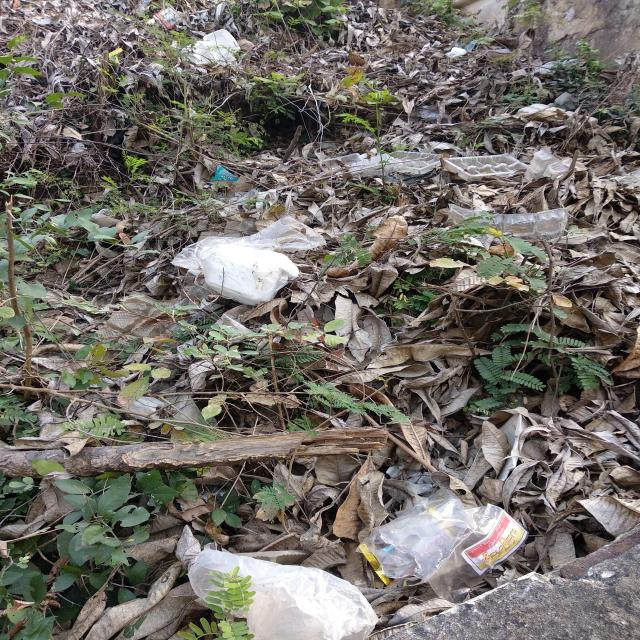litter: (343, 482, 548, 611), (173, 544, 390, 639), (164, 207, 333, 312), (309, 134, 589, 193), (176, 21, 254, 73), (141, 5, 191, 33), (203, 158, 241, 189), (439, 45, 474, 64)
